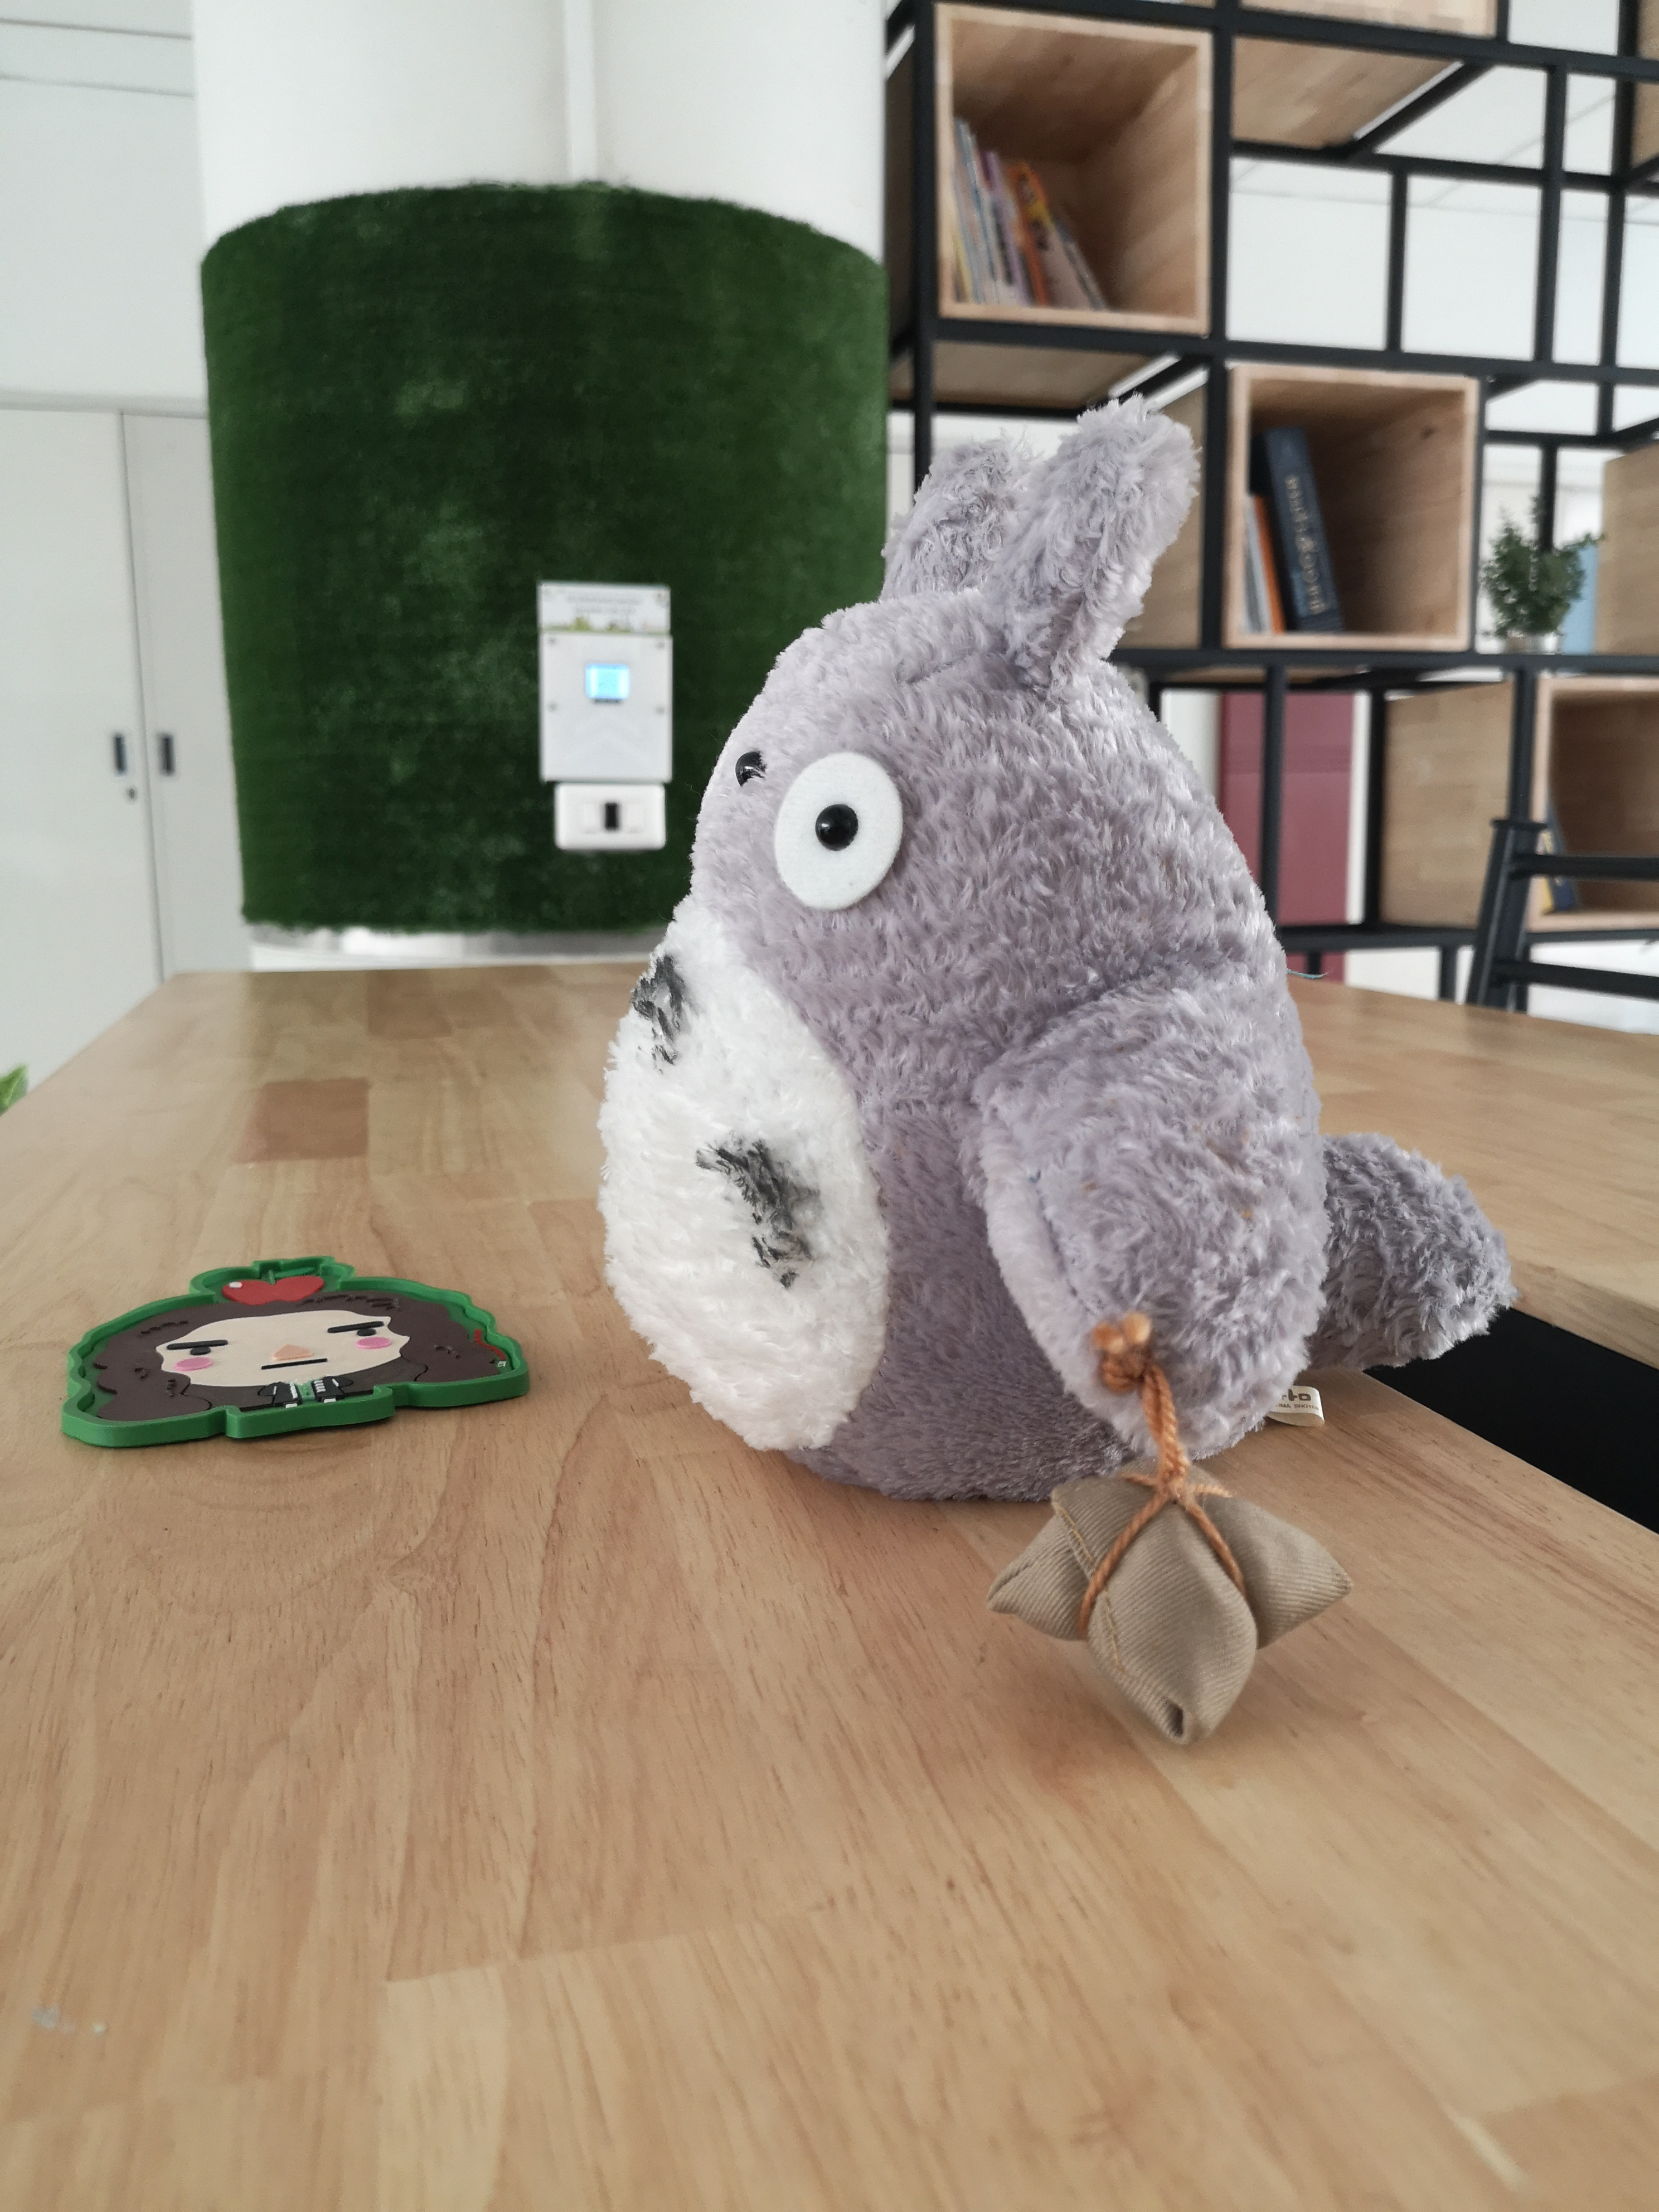totoro: (584, 388, 1513, 1752)
